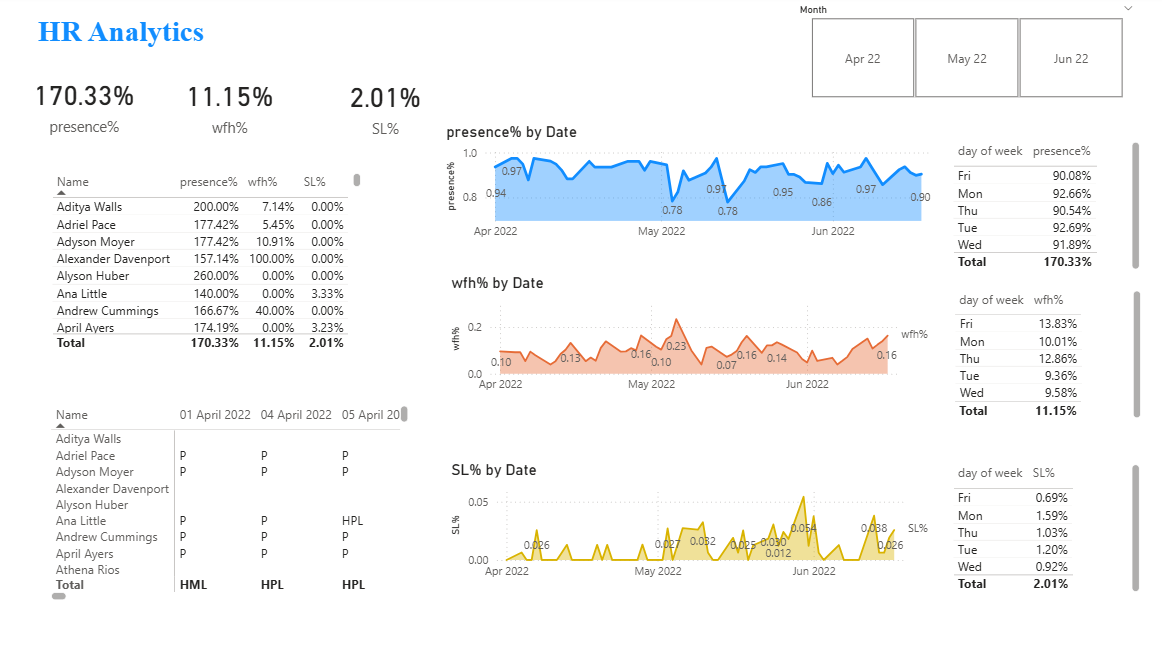

Layout of this report page (visuals, bound fields, positions):
{"tool":"powerbi","page":{"name":"Page 1","canvas":[1280,720],"ordinal":0},"visuals":[{"type":"card","fields":{"Values":["measure table.present%"]},"box":[0,76.8,189.4,83.7],"z":0},{"type":"slicer","fields":{"Values":["final data.Month"]},"box":[867.2,4.1,391.1,115.3],"z":1000},{"type":"card","fields":{"Values":["measure table.wfh%"]},"box":[189.4,78.2,130.4,83.7],"z":2000},{"type":"card","fields":{"Values":["measure table.SL%"]},"box":[358.1,79.6,134.5,83.7],"z":3000},{"type":"tableEx","fields":{"Values":["final data.Name","measure table.presence%","measure table.wfh%","measure table.SL%"]},"box":[53.5,190.7,349.9,204.5],"z":4000},{"type":"textbox","box":[0,16.5,270.3,60.4],"z":5000},{"type":"pivotTable","fields":{"Rows":["final data.Name"],"Values":["final data.Value"],"Columns":["final data.Date"]},"box":[53.5,446,402.1,223.7],"z":5001},{"type":"stackedAreaChart","fields":{"Y":["measure table.presence%"],"Category":["final data.Date"]},"box":[487.1,140,555.7,137.2],"z":5002},{"type":"stackedAreaChart","fields":{"Y":["measure table.wfh%"],"Category":["final data.Date"]},"box":[492.6,306,550.3,140],"z":5003},{"type":"stackedAreaChart","fields":{"Y":["measure table.SL%"],"Category":["final data.Date"]},"box":[492.6,510.5,550.3,140],"z":5004},{"type":"tableEx","fields":{"Values":["final data.day of week","measure table.presence%"]},"box":[1042.9,156.4,215.4,149.6],"z":5005},{"type":"tableEx","fields":{"Values":["final data.day of week","measure table.SL%"]},"box":[1042.9,510.5,215.4,149.6],"z":5006},{"type":"tableEx","fields":{"Values":["final data.day of week","measure table.wfh%"]},"box":[1044.3,319.7,215.4,149.6],"z":5007}]}

Visuals, with their boxes in screenshot pixels (x1, y1, x2, y2), scaled from the page's 1280x720 canvas onto the 1162x647 screenshot:
card - measure table.present%: (left=0, top=69, right=172, bottom=144)
slicer - final data.Month: (left=787, top=4, right=1142, bottom=107)
card - measure table.wfh%: (left=172, top=70, right=290, bottom=145)
card - measure table.SL%: (left=325, top=72, right=447, bottom=147)
tableEx - final data.Name x measure table.presence%: (left=49, top=171, right=366, bottom=355)
textbox: (left=0, top=15, right=245, bottom=69)
pivotTable - final data.Name x final data.Value: (left=49, top=401, right=414, bottom=602)
stackedAreaChart - measure table.presence% x final data.Date: (left=442, top=126, right=947, bottom=249)
stackedAreaChart - measure table.wfh% x final data.Date: (left=447, top=275, right=947, bottom=401)
stackedAreaChart - measure table.SL% x final data.Date: (left=447, top=459, right=947, bottom=585)
tableEx - final data.day of week x measure table.presence%: (left=947, top=141, right=1142, bottom=275)
tableEx - final data.day of week x measure table.SL%: (left=947, top=459, right=1142, bottom=593)
tableEx - final data.day of week x measure table.wfh%: (left=948, top=287, right=1144, bottom=422)
